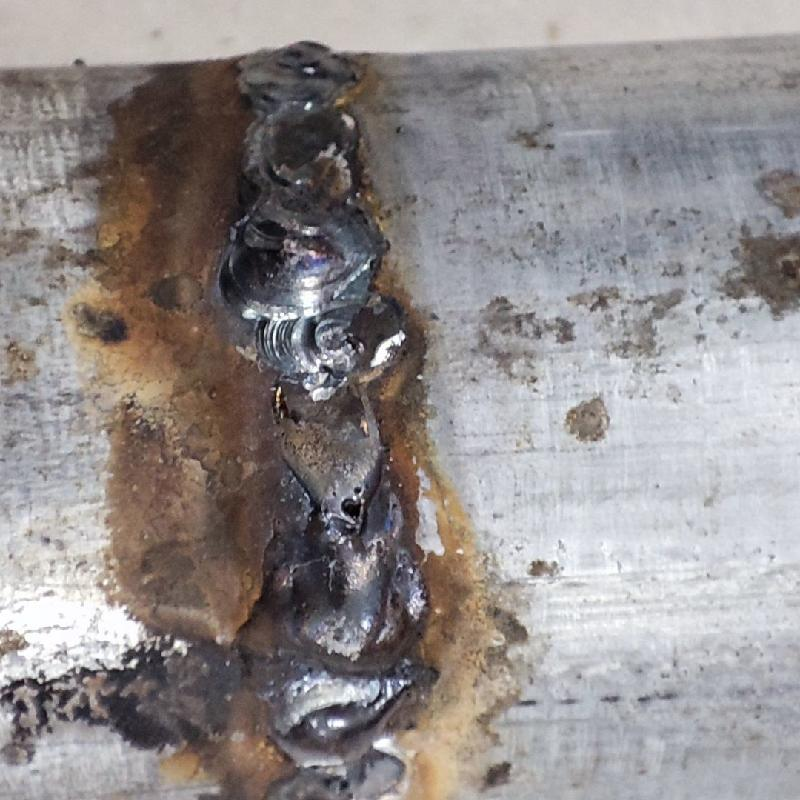Not_fully_soldered: (250, 310, 407, 535)
Surface_pores: (320, 482, 379, 532)
Weld: (255, 539, 413, 774)
wrong_size: (218, 35, 383, 318)
